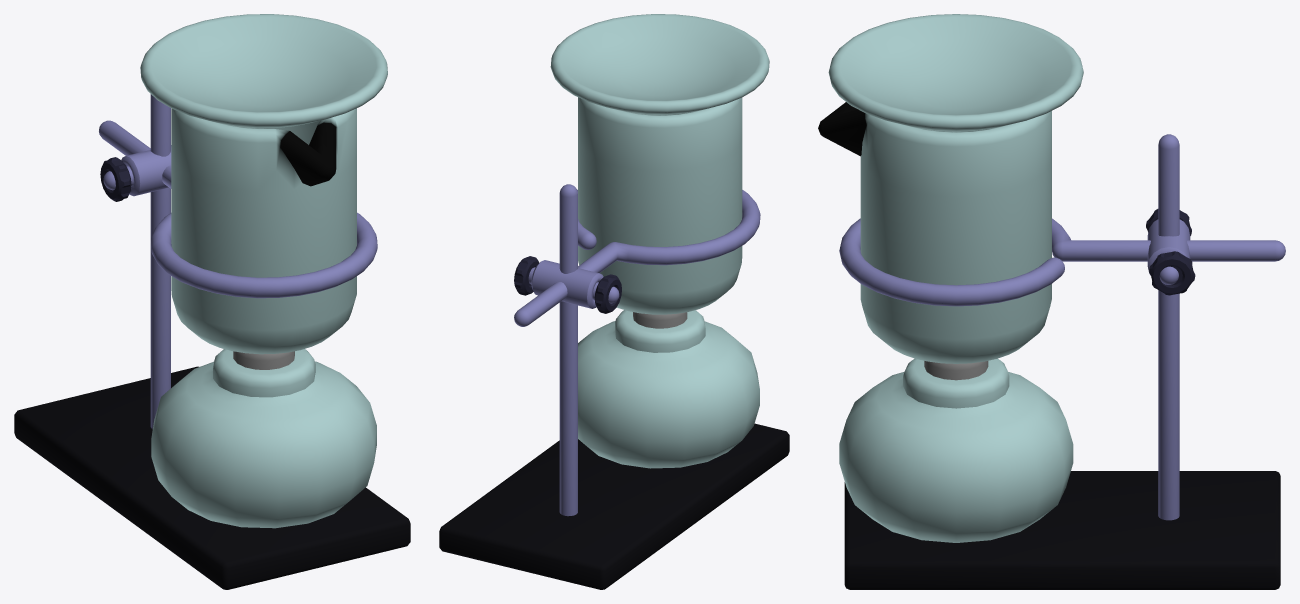
The model's file is LastLuna_Model_Station_Heater.fbx.
3 views of the same model, side by side, from view 1: azimuth 30°, elevation 25°; view 2: azimuth 150°, elevation 25°; view 3: azimuth 270°, elevation 25° (orthographic). The views are drawn at different scales.
Visible parts, largest first — view 1: Beaker001, Alcohol_Lamp001, Stand_Base001, Watch_Glass001, Cylinder013, Stand_Pole001, Stand_Pole_Fixture_Metal001, Stand_Pole_Fixture_Plastic001, Alcohol_Lamp_wick001; view 2: Beaker001, Stand_Base001, Alcohol_Lamp001, Watch_Glass001, Stand_Pole001, Cylinder013, Stand_Pole_Fixture_Metal001, Stand_Pole_Fixture_Plastic001, Alcohol_Lamp_wick001, Stand_Pole_Fixture_Plastic002; view 3: Beaker001, Stand_Base001, Alcohol_Lamp001, Watch_Glass001, Cylinder013, Stand_Pole001, Stand_Pole_Fixture_Plastic002, Stand_Pole_Fixture_Metal001, Alcohol_Lamp_wick001.
Boxes of the visible parts, x1,y1,x2,y2 form: Beaker001: (171,108,356,354); Alcohol_Lamp001: (151,349,376,528); Stand_Base001: (14,366,410,589); Watch_Glass001: (140,14,387,128); Cylinder013: (99,120,377,298); Stand_Pole001: (150,94,170,428); Stand_Pole_Fixture_Metal001: (121,145,171,196); Stand_Pole_Fixture_Plastic001: (100,157,131,201); Alcohol_Lamp_wick001: (233,351,294,369); Beaker001: (578,97,742,314); Stand_Base001: (439,423,789,589); Alcohol_Lamp001: (578,310,759,468); Watch_Glass001: (550,14,769,114); Stand_Pole001: (559,184,577,516); Cylinder013: (514,189,760,326); Stand_Pole_Fixture_Metal001: (531,260,603,308); Stand_Pole_Fixture_Plastic001: (594,274,621,313); Alcohol_Lamp_wick001: (633,312,687,328); Stand_Pole_Fixture_Plastic002: (514,256,539,295); Beaker001: (818,102,1051,363); Stand_Base001: (844,471,1280,589); Alcohol_Lamp001: (839,358,1073,542); Watch_Glass001: (828,14,1083,131); Cylinder013: (839,218,1285,306); Stand_Pole001: (1158,134,1179,520); Stand_Pole_Fixture_Plastic002: (1149,251,1195,295); Stand_Pole_Fixture_Metal001: (1147,219,1190,275); Alcohol_Lamp_wick001: (924,361,988,380).
Size of the model in its own units: 120 by 249 by 220.
